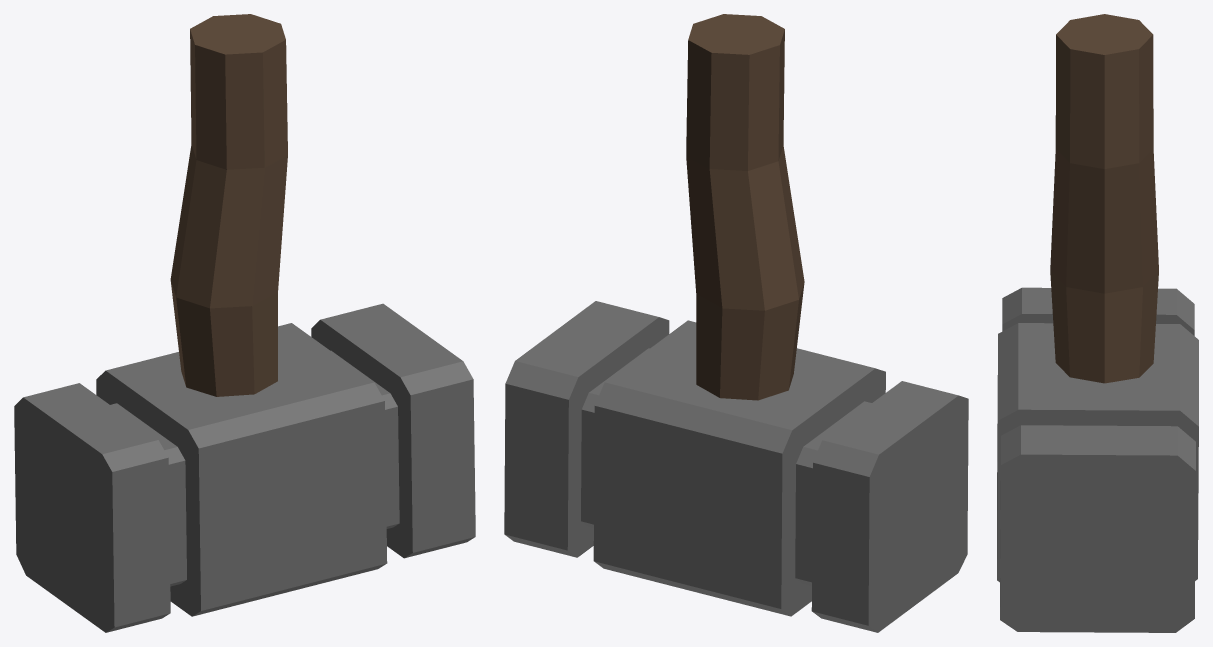
File: Hammer.fbx
The picture shows the model from 3 angles, left to right: view 1: azimuth 30°, elevation 25°; view 2: azimuth 150°, elevation 25°; view 3: azimuth 270°, elevation 25°; orthographic projection. The views are drawn at different scales.
Parts seen in each view (by area): view 1: Cylinder, Cylinder.001; view 2: Cylinder, Cylinder.001; view 3: Cylinder, Cylinder.001.
Boxes of the visible parts, x1,y1,x2,y2 form: Cylinder: (14,303,475,632); Cylinder.001: (170,14,287,396); Cylinder: (504,301,968,632); Cylinder.001: (686,14,804,400); Cylinder: (997,287,1198,632); Cylinder.001: (1050,14,1158,383).
Size of the model in its own units: 389 by 540 by 192.
